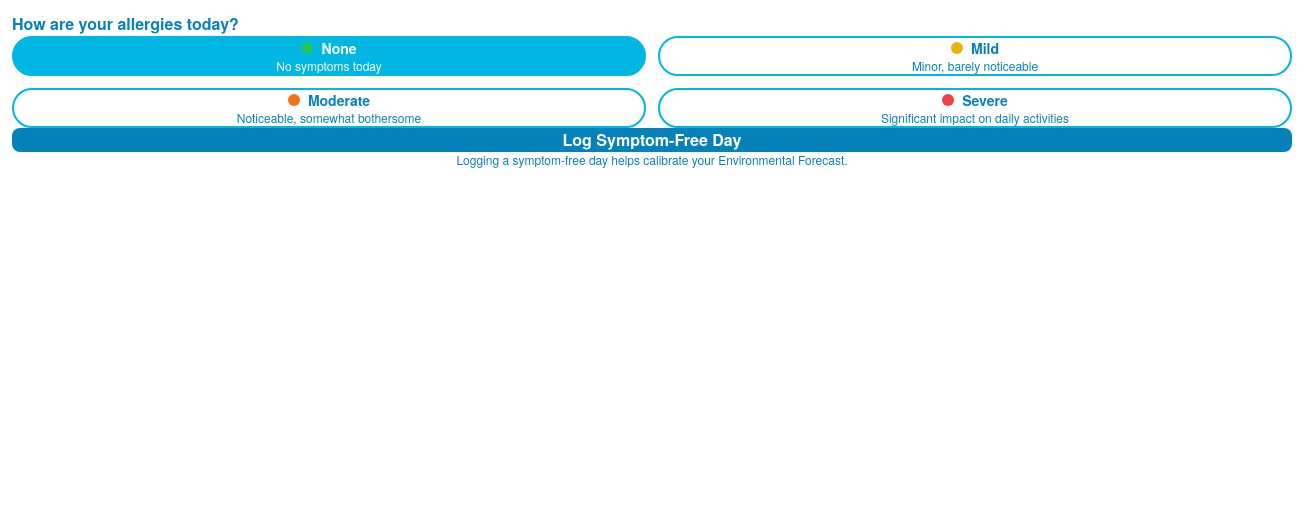
Scenario: CheckinForm › clears symptoms when severity changes to 0
# Set severity to 2
Click the radio button with test id "severity-2".
click(329, 108)  # box [12, 88, 646, 128]
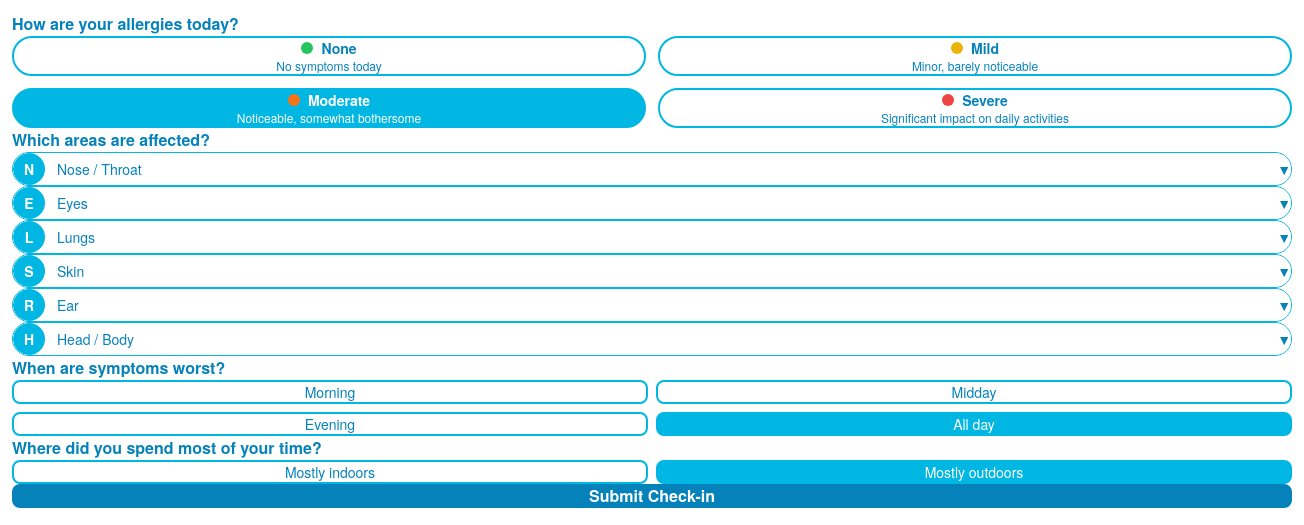
Expected: the text "Which areas are affected?" is shown, [12, 128, 210, 152]
# Set severity back to 0
Click the radio button with test id "severity-0".
click(329, 56)  # box [12, 36, 646, 76]
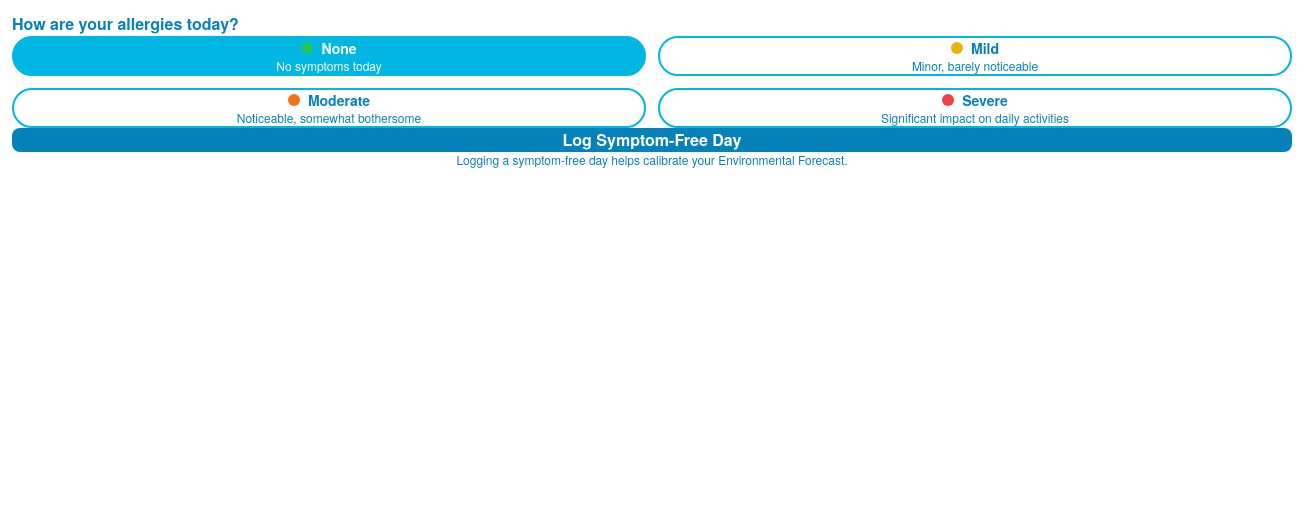
Expected: the text "Which areas are affected?" is gone
